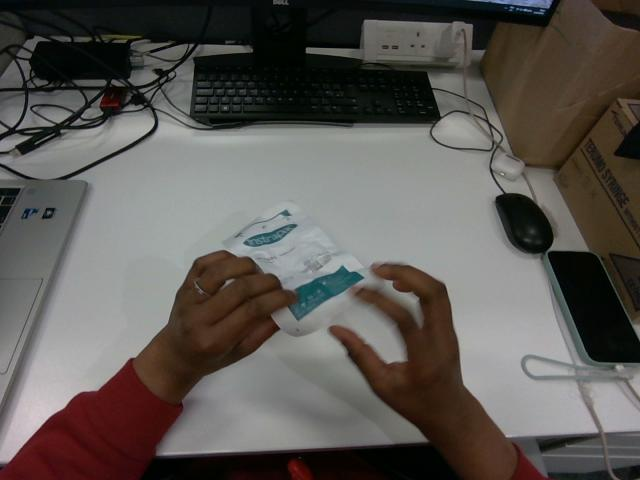gallipot: (223, 202, 370, 335)
